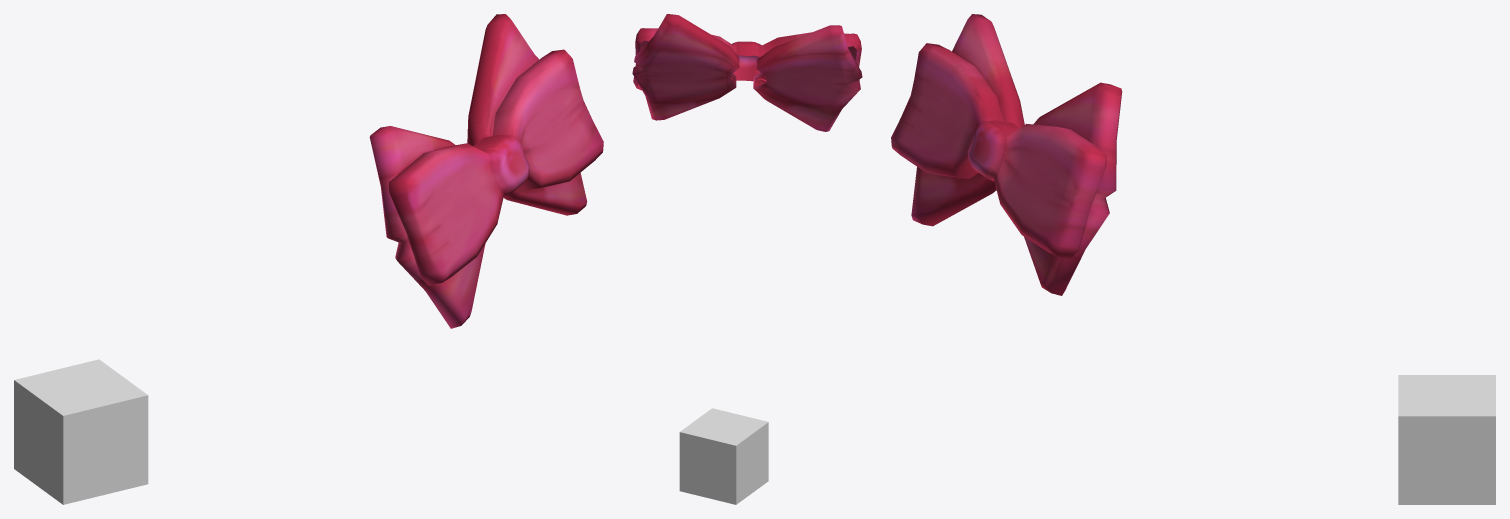
The model's file is ribbon3_girl.FBX.
The picture shows the model from 3 angles, left to right: view 1: azimuth 30°, elevation 25°; view 2: azimuth 150°, elevation 25°; view 3: azimuth 270°, elevation 25°; orthographic projection. The views are drawn at different scales.
Visible parts, largest first — view 1: girl_ribbon17, faceSpawn; view 2: girl_ribbon17, faceSpawn; view 3: girl_ribbon17, faceSpawn.
Boxes of the visible parts, <box> form: girl_ribbon17: <box>369,14,603,328</box>; faceSpawn: <box>14,359,148,504</box>; girl_ribbon17: <box>632,14,862,131</box>; faceSpawn: <box>679,408,768,504</box>; girl_ribbon17: <box>891,14,1122,295</box>; faceSpawn: <box>1398,375,1495,504</box>.
Bounding box in the file's own units: 21.75 × 29.44 × 30.95.
